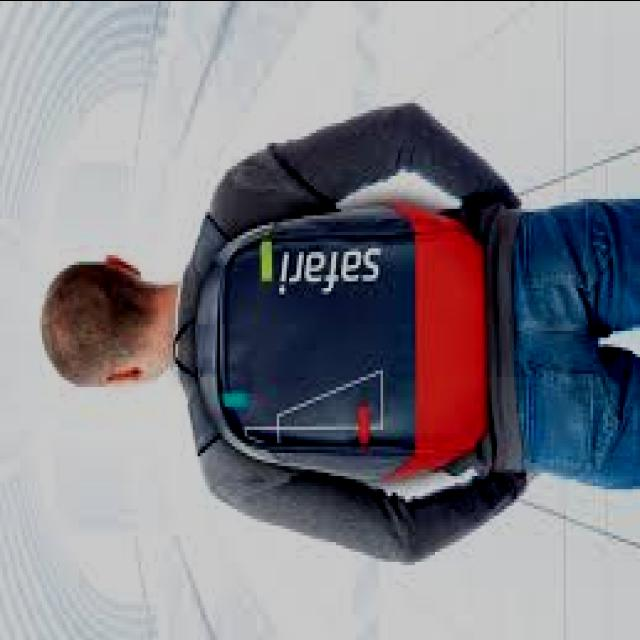backpack: (172, 202, 493, 496)
